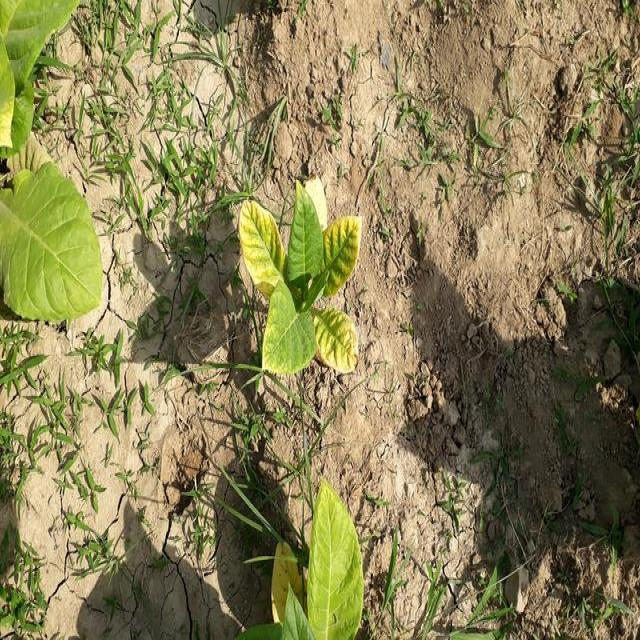crop: (238, 169, 368, 391)
